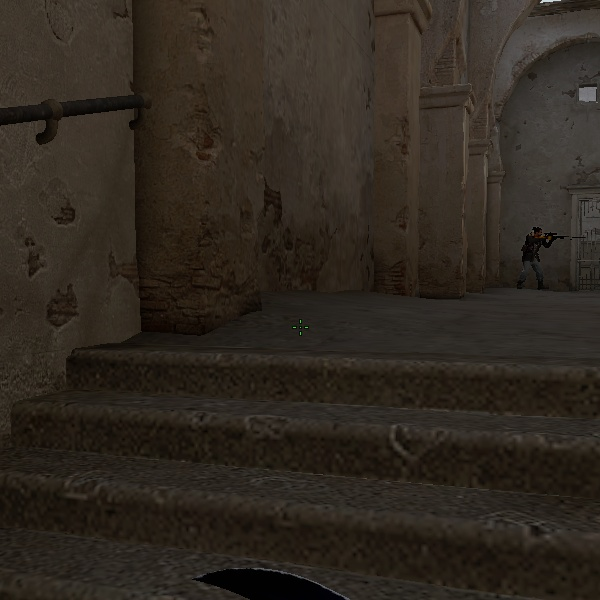t_body: (517, 220, 556, 294)
t_head: (530, 223, 545, 240)
